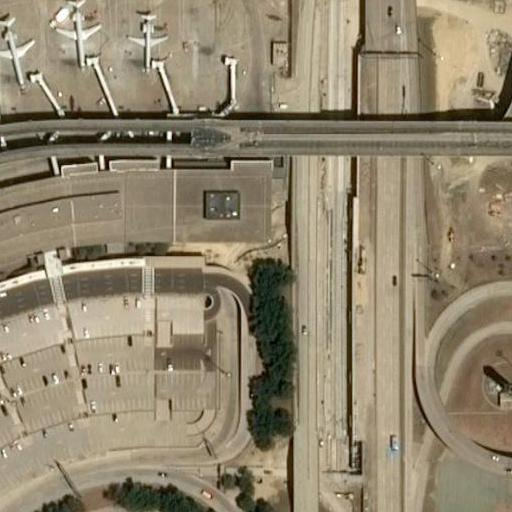Aircraft: (57, 2, 101, 67), (0, 12, 38, 81), (126, 7, 166, 64)
